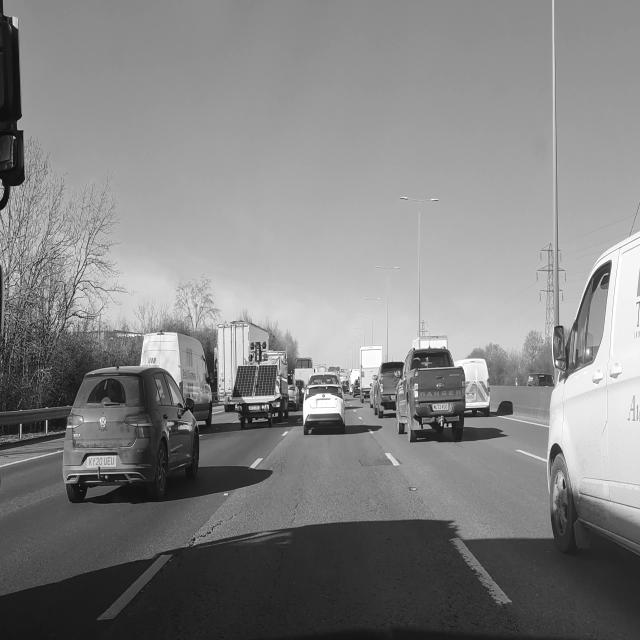car: (547, 234, 639, 554), (63, 367, 199, 502), (396, 342, 466, 447), (303, 375, 345, 434), (373, 362, 403, 418), (288, 374, 299, 410), (295, 379, 305, 410)
